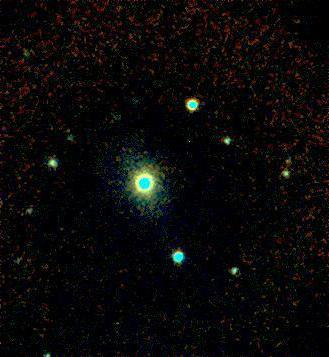star: (54, 115, 84, 145)
